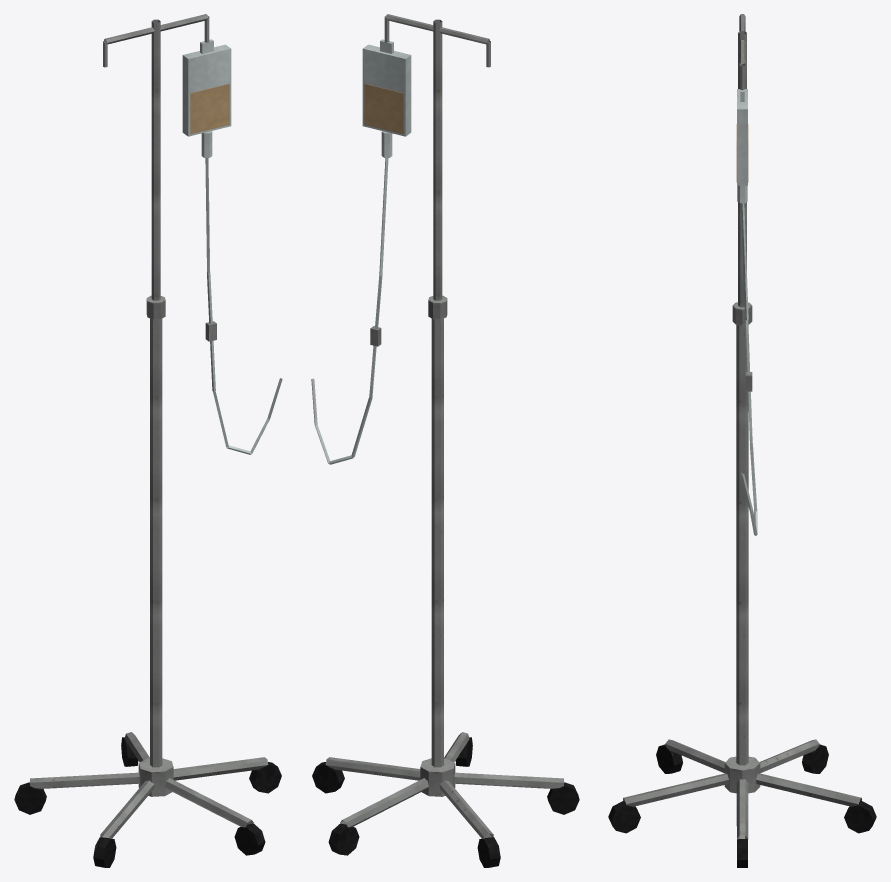
File: IV_Stand.fbx
3 views of the same model, side by side, from view 1: azimuth 30°, elevation 25°; view 2: azimuth 150°, elevation 25°; view 3: azimuth 270°, elevation 25° (orthographic).
Parts seen in each view (by area): view 1: капельница; view 2: капельница; view 3: капельница.
Boxes of the visible parts, bbox=[...] form: капельница: bbox=[14, 14, 282, 867]; капельница: bbox=[311, 14, 579, 867]; капельница: bbox=[608, 14, 876, 867].
Bounding box in the file's own units: 0.5861 × 1.95 × 0.6069.
1 material, 1 textured.
